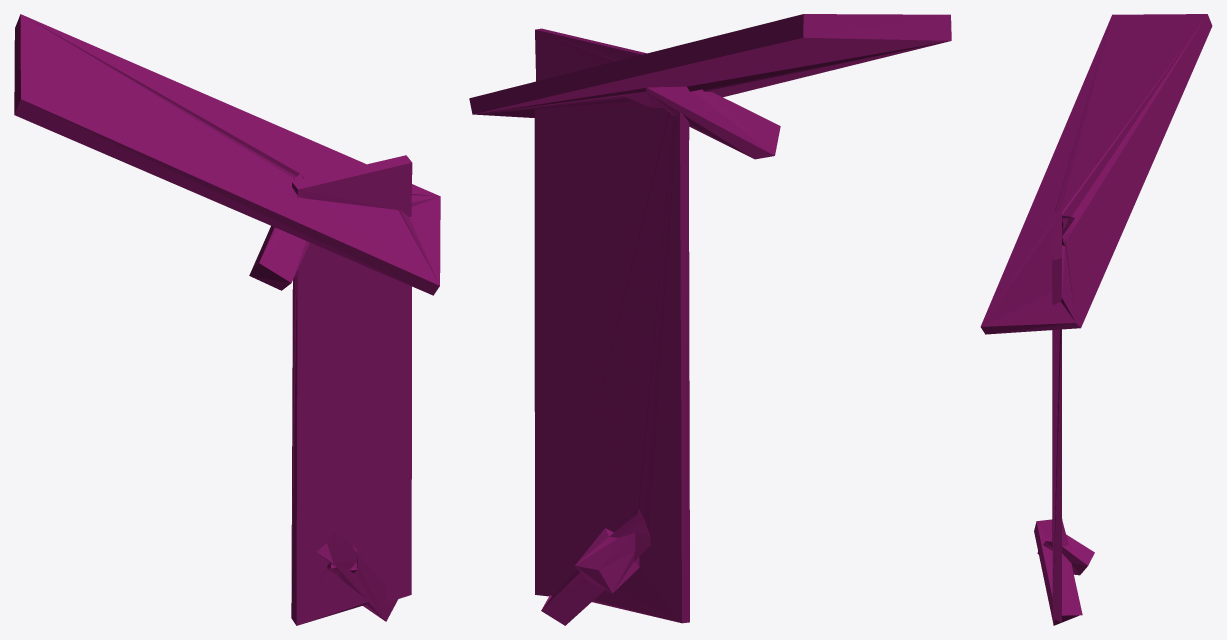
3 views of the same model, side by side, from view 1: azimuth 30°, elevation 25°; view 2: azimuth 150°, elevation 25°; view 3: azimuth 270°, elevation 25° (orthographic). The views are drawn at different scales.
Visible parts, largest first — view 1: 921_Cube.3723; view 2: 921_Cube.3723; view 3: 921_Cube.3723.
Part boxes in pixels (x1=…): 921_Cube.3723: x1=14, y1=14, x2=440, y2=625; 921_Cube.3723: x1=469, y1=14, x2=951, y2=625; 921_Cube.3723: x1=980, y1=14, x2=1212, y2=625.
Bounding box in the file's own units: 11.58 × 16.72 × 7.
